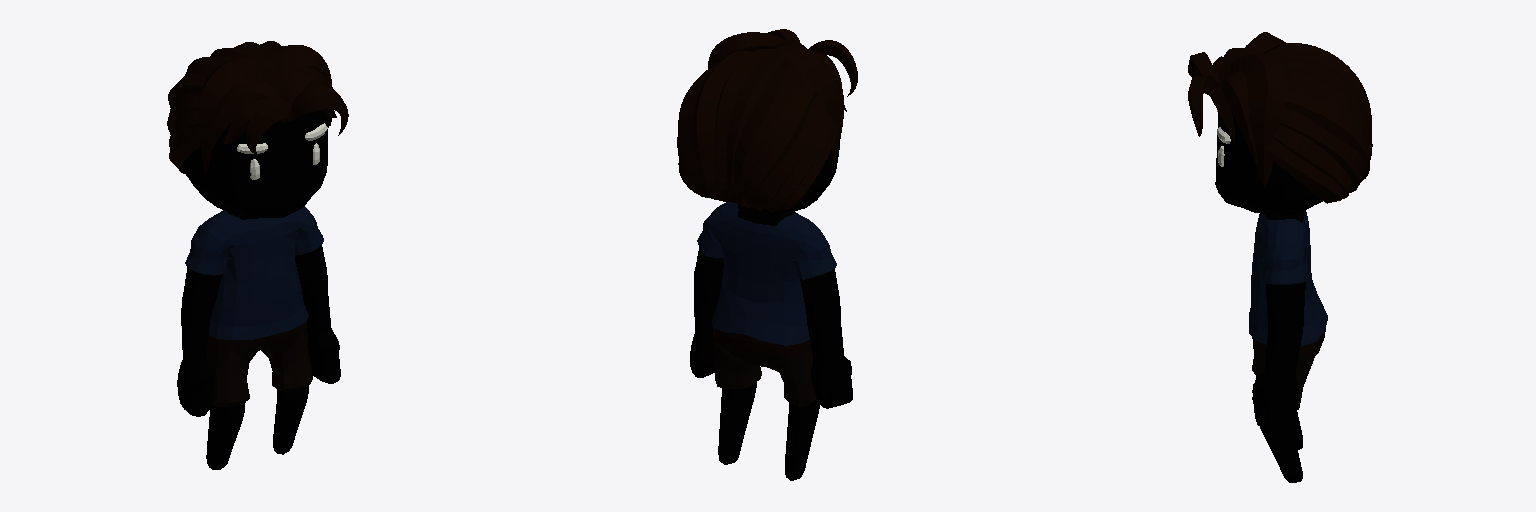
The model's file is Casual_Male.obj.
3 views of the same model, side by side, from view 1: azimuth 30°, elevation 25°; view 2: azimuth 150°, elevation 25°; view 3: azimuth 270°, elevation 25° (orthographic).
Visible parts, largest first — view 1: Body_Cube.004; view 2: Body_Cube.004; view 3: Body_Cube.004.
Part boxes in pixels (x1,y1,x2,y2): Body_Cube.004: (167, 41, 348, 469); Body_Cube.004: (677, 29, 857, 480); Body_Cube.004: (1188, 32, 1372, 482).
Bounding box in the file's own units: 1.28 × 3.29 × 1.31.